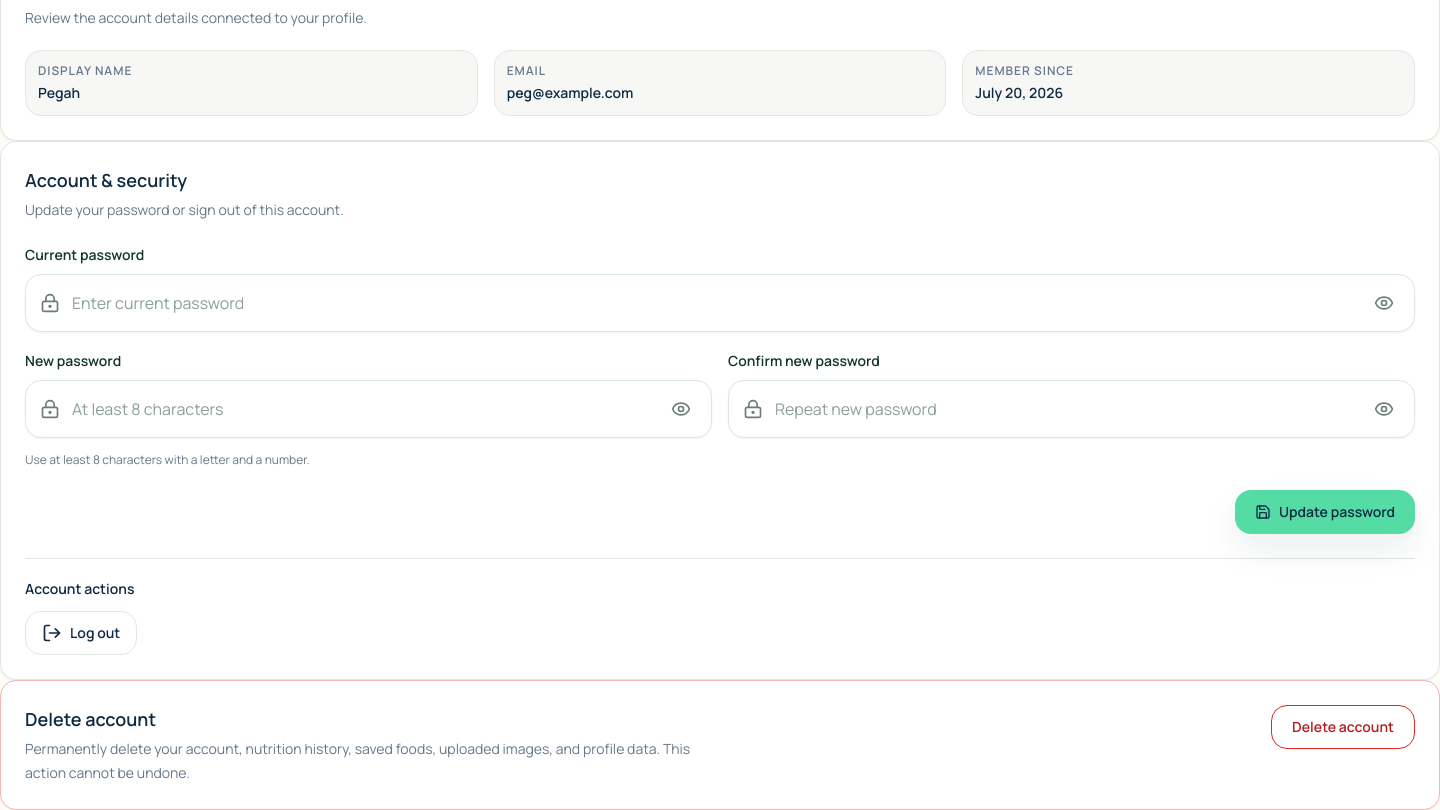
Scenario: ProfileContent delete account modal › keeps the final delete button disabled until DELETE is typed exactly
(page scrolled)
Click the button "Delete account": (1343, 727) [1271,705,1415,749]
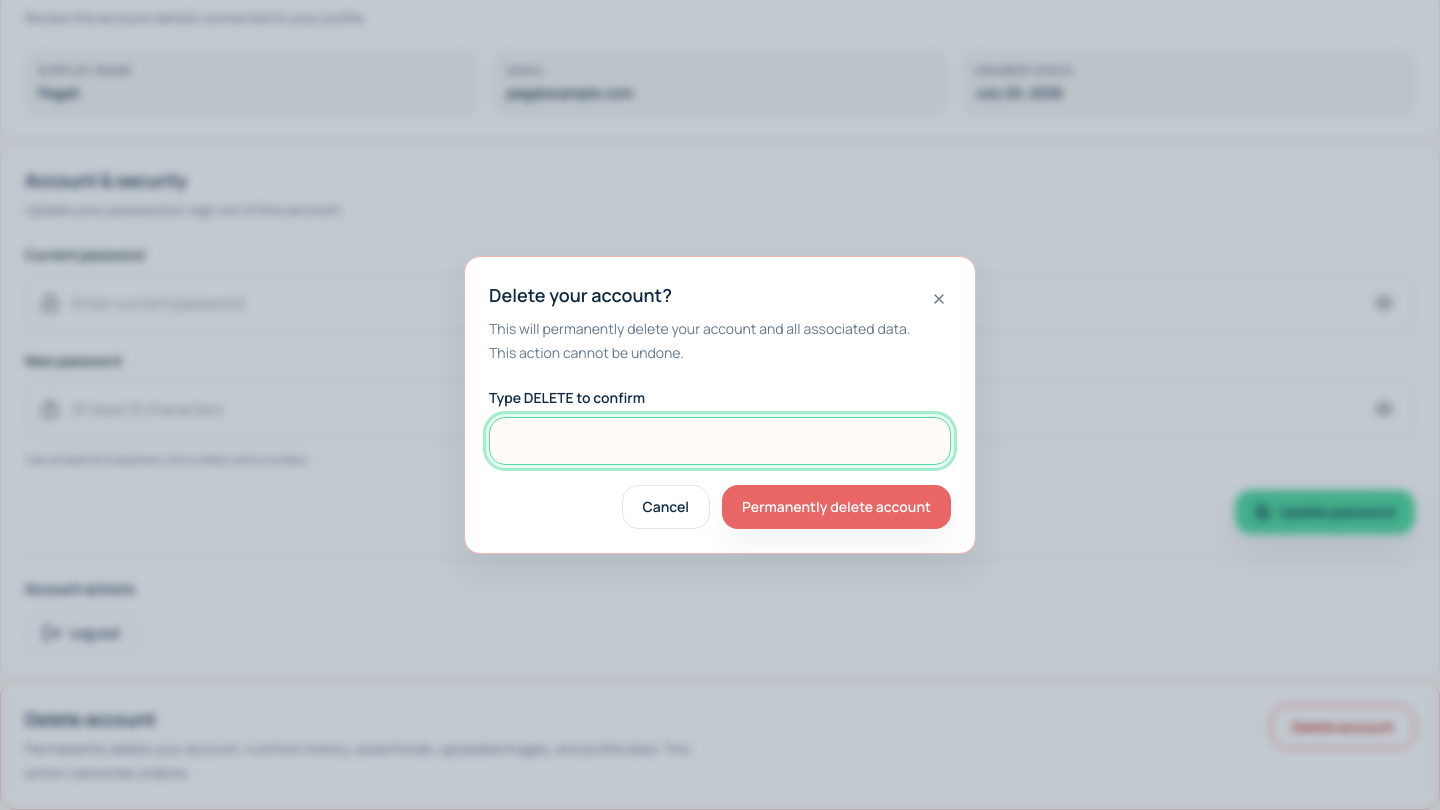
Now the button "Permanently delete account" is disabled, box [722,485,951,529]
In the field labelled "Type DELETE to confirm": (720, 441) [489,417,951,465], type "delete"
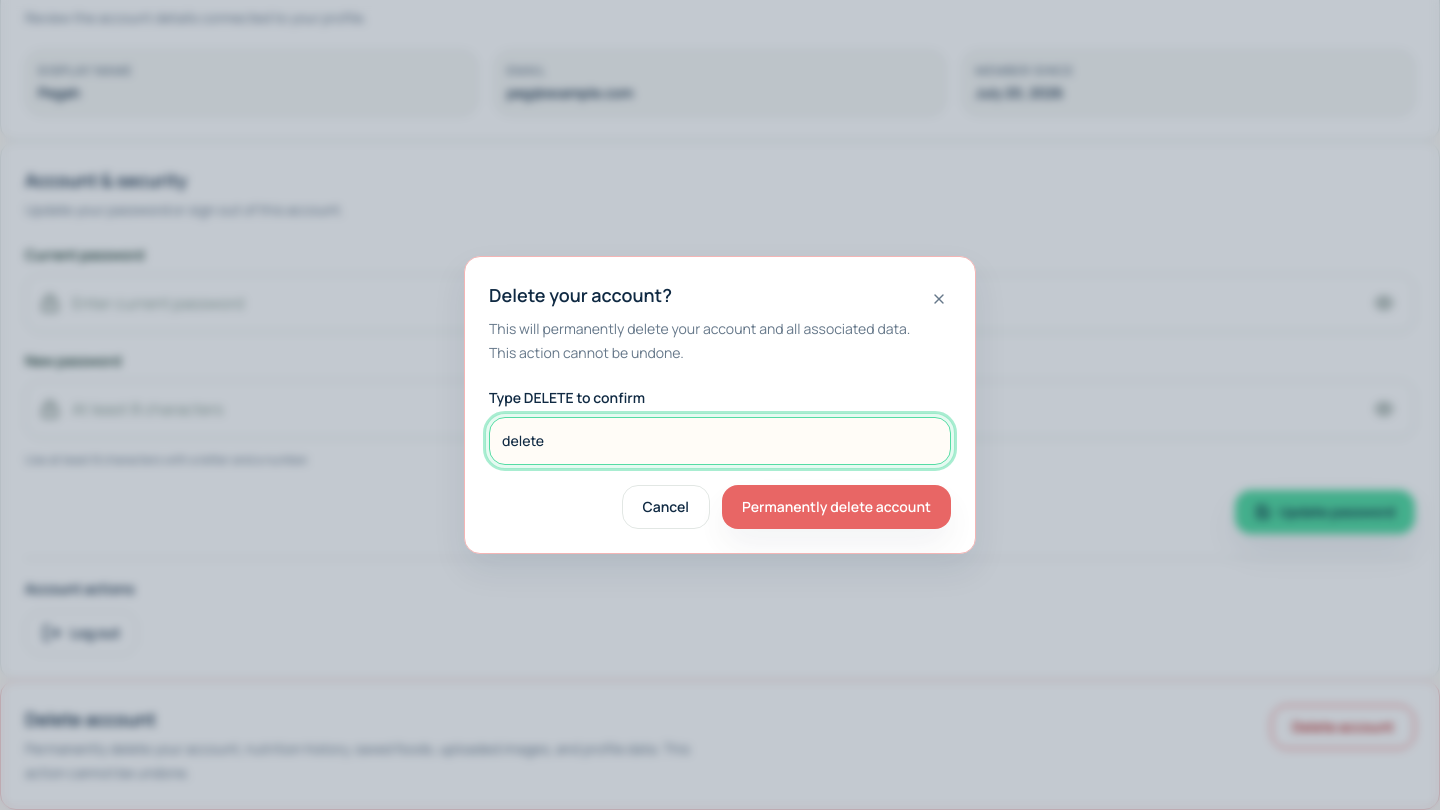
Now the button "Permanently delete account" is disabled, box [722,485,951,529]
Replace the text in the field labelled "Type DELETE to confirm" with "DELETE": (720, 441) [489,417,951,465]
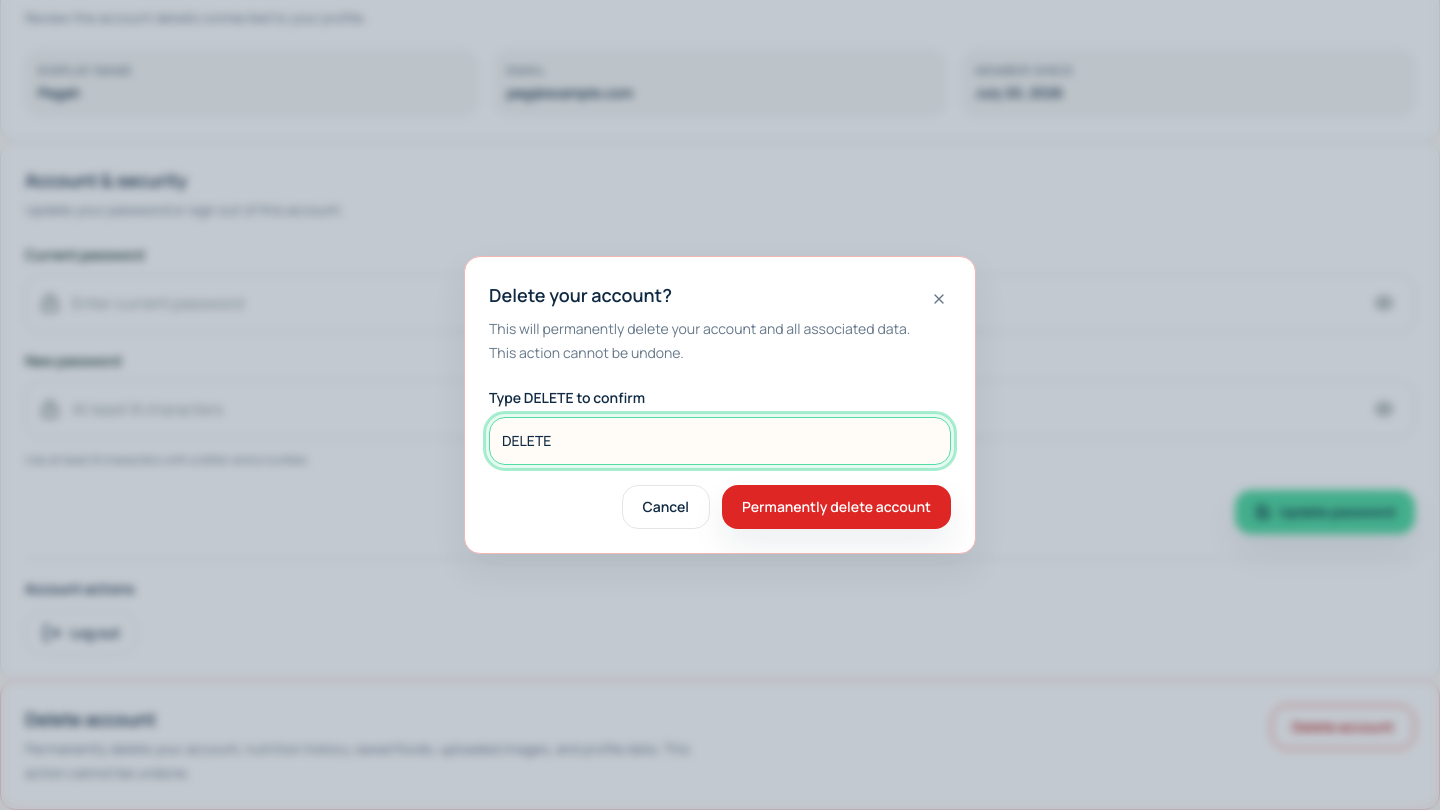
Now the button "Permanently delete account" is enabled, box [722,485,951,529]
